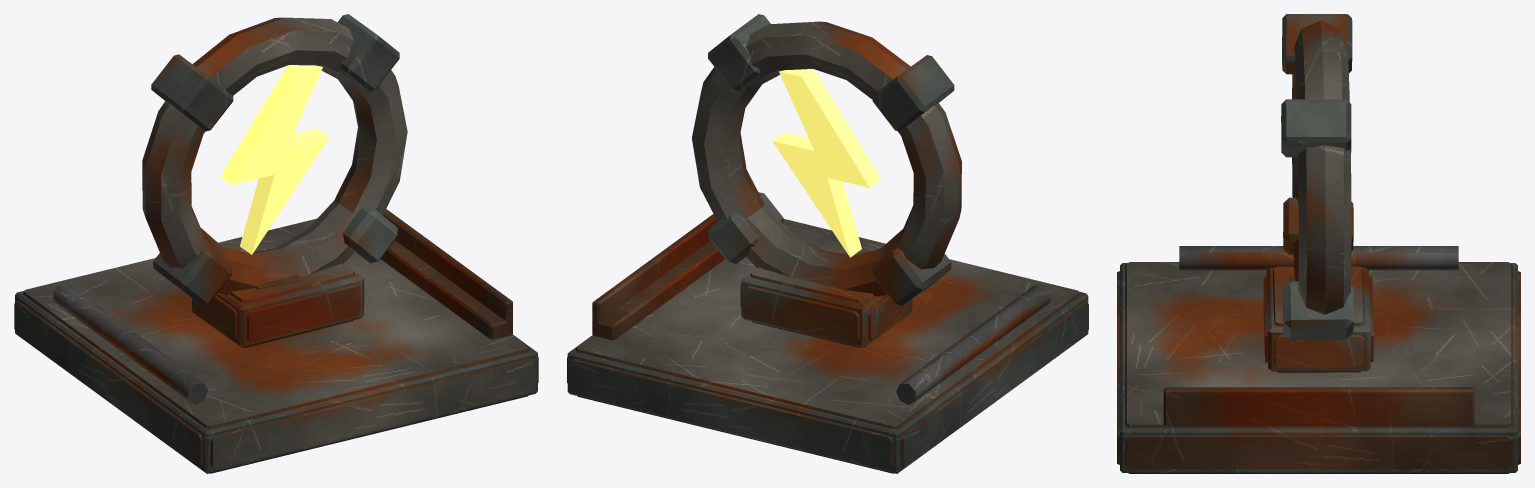
The model's file is R4X_RechargePulse.glb.
3 views of the same model, side by side, from view 1: azimuth 30°, elevation 25°; view 2: azimuth 150°, elevation 25°; view 3: azimuth 270°, elevation 25° (orthographic). The views are drawn at different scales.
Parts seen in each view (by area): view 1: R4X_RechargePulse_Body; view 2: R4X_RechargePulse_Body; view 3: R4X_RechargePulse_Body.
Part boxes in pixels (x1=…): R4X_RechargePulse_Body: x1=14, y1=14, x2=538, y2=473; R4X_RechargePulse_Body: x1=567, y1=14, x2=1088, y2=473; R4X_RechargePulse_Body: x1=1117, y1=14, x2=1520, y2=473.
Bounding box in the file's own units: 0.52 × 0.5083 × 0.52.
5 materials, 4 textured.
